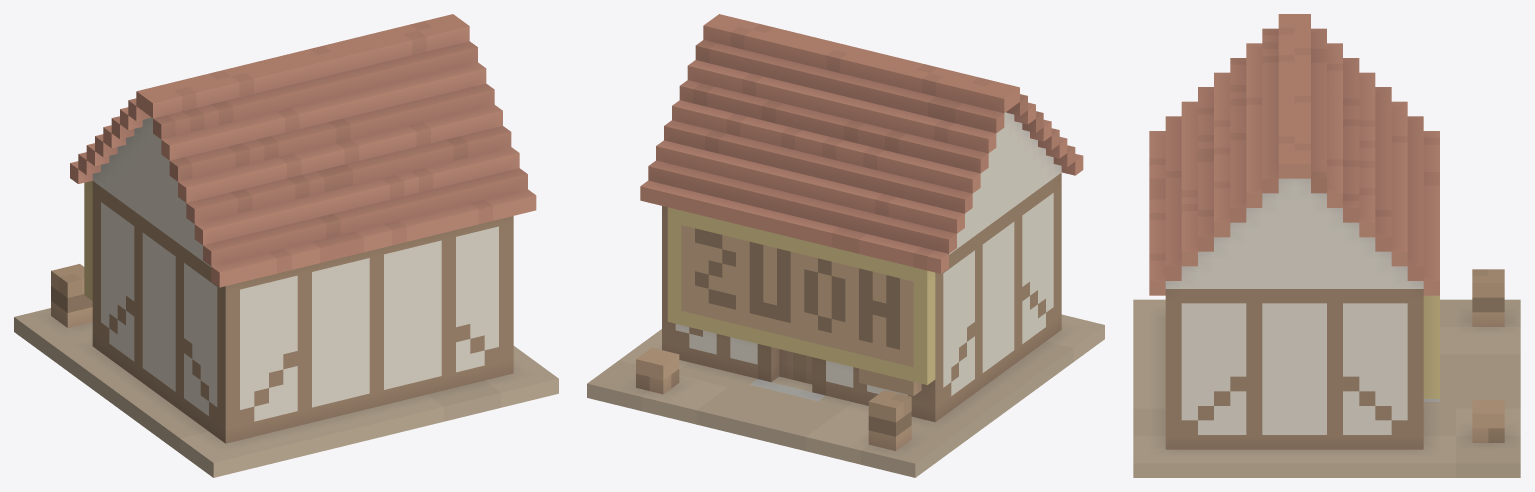
Rendered from house_citizens.glb.
3 views of the same model, side by side, from view 1: azimuth 30°, elevation 25°; view 2: azimuth 150°, elevation 25°; view 3: azimuth 270°, elevation 25° (orthographic). The views are drawn at different scales.
Parts seen in each view (by area): view 1: house_citizens; view 2: house_citizens; view 3: house_citizens.
Part boxes in pixels (x1,y1,x2,y2): house_citizens: (14,14,558,477); house_citizens: (587,14,1104,477); house_citizens: (1133,14,1520,477).
Bounding box in the file's own units: 3 × 2.62 × 3.
